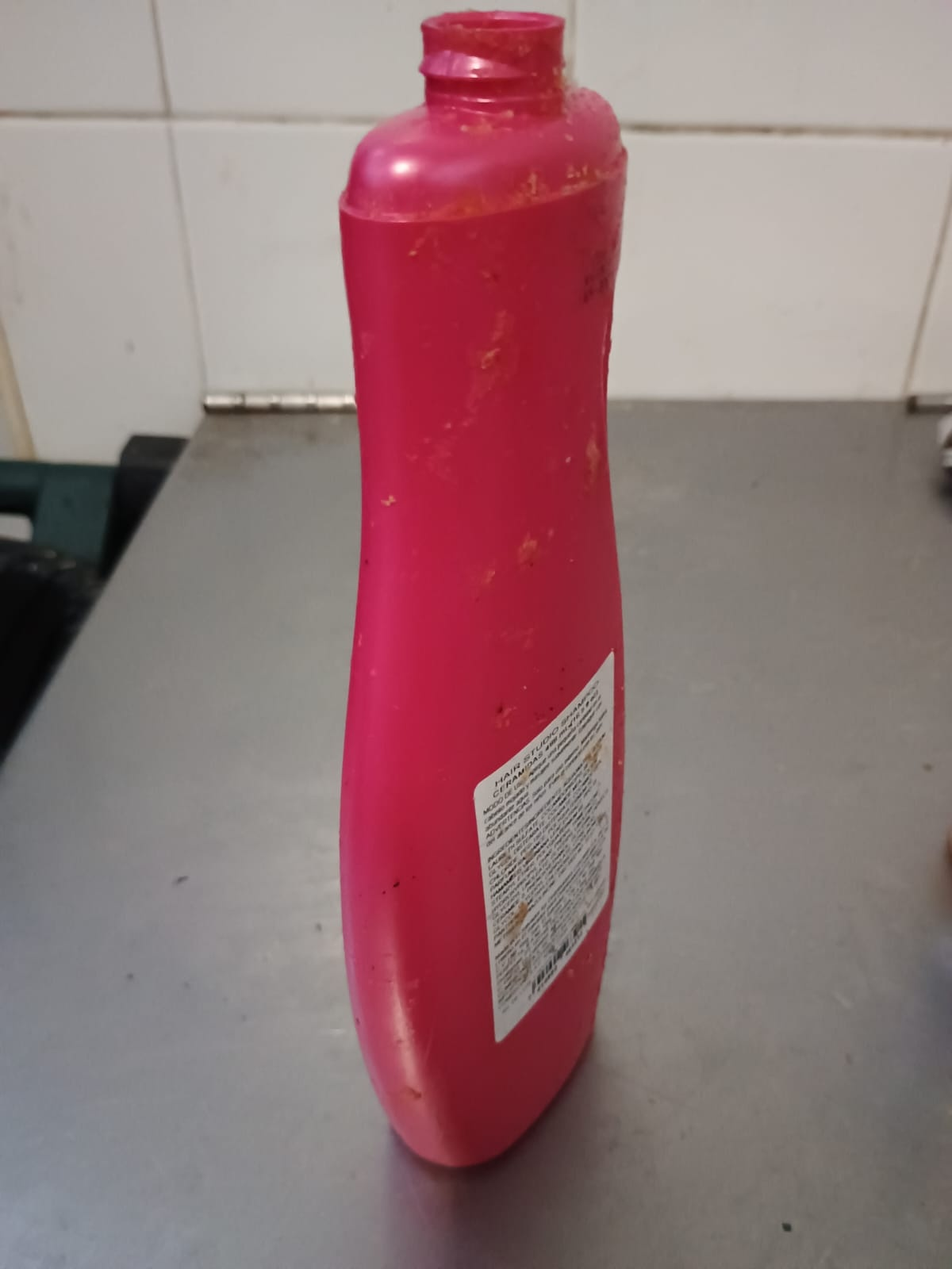Plastico: (338, 12, 625, 1170)
